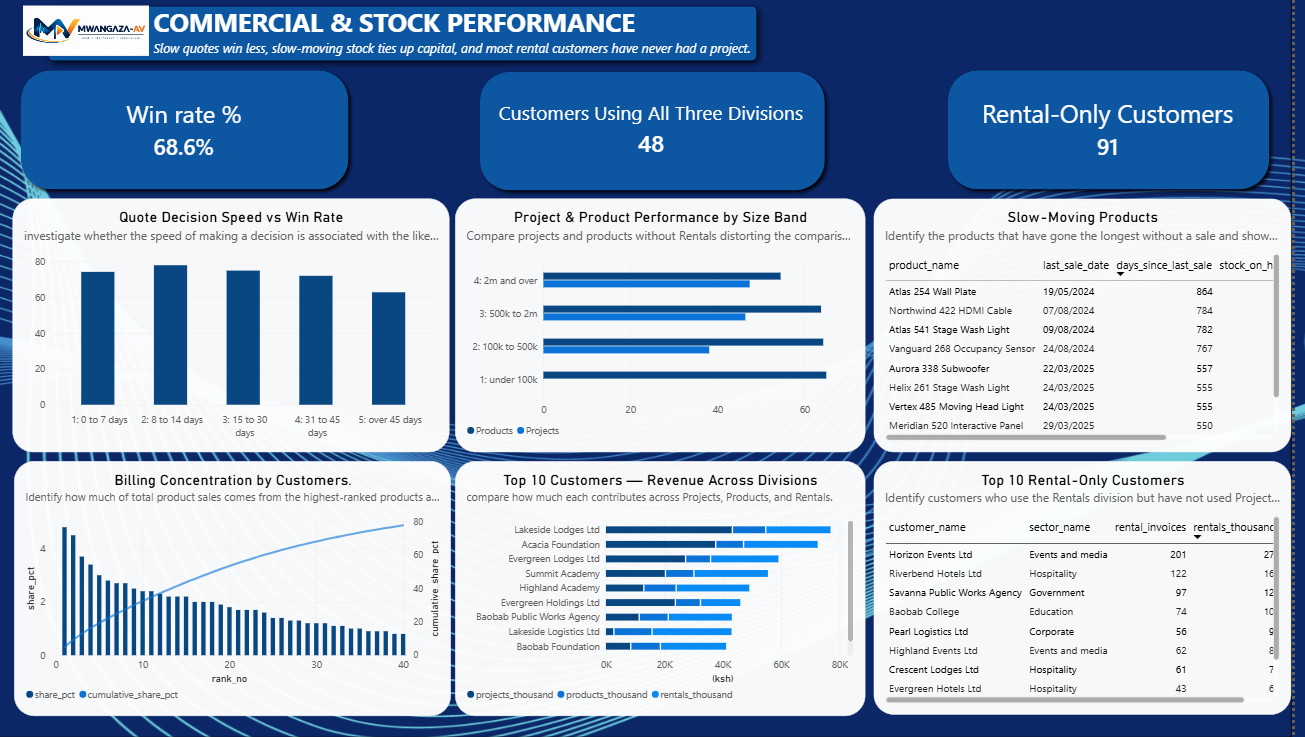

The dashboard page shown, as its layout file describes it:
{"tool":"powerbi","page":{"name":"commercial and stock","canvas":[1920,1080],"ordinal":2},"visuals":[{"type":"group","id":"g1","title":"Group 1","box":[60.4,0,1836,292.5],"z":0},{"type":"shape","box":[94.4,0,1061.1,109.2],"z":0,"group":"g1"},{"type":"shape","box":[1408.7,98.8,487.7,193],"z":1000,"group":"g1"},{"type":"cardVisual","fields":{"Data":["CountNonNull(analysis q17_customer_value_across_divisions.customer_code)"]},"box":[735.3,116.5,505.4,157.7],"z":1000},{"type":"cardVisual","fields":{"Data":["00_measures.Win rate %"]},"box":[85.5,98.8,446.9,192.9],"z":2000},{"type":"shape","box":[728,100.1,522,192.5],"z":2000,"group":"g1"},{"type":"shape","box":[60.4,98.8,496.6,193],"z":3000,"group":"g1"},{"type":"cardVisual","fields":{"Data":["CountNonNull(analysis q18_rent_only_customers.customer_code)"]},"box":[1427.8,98.8,450.9,190.2],"z":3000},{"type":"image","box":[75.1,7.4,183.6,88.4],"z":5000},{"type":"textbox","box":[264.2,13.1,877.7,83],"z":5500},{"type":"clusteredColumnChart","title":"Quote Decision Speed vs Win Rate","fields":{"Category":["analysis q13_win_rate_by_decision_speed.decision_speed"],"Y":["Sum(analysis q13_win_rate_by_decision_speed.win_rate_pct)"]},"box":[58.5,294.1,635.9,369.5],"z":7000},{"type":"clusteredBarChart","title":"Project & Product Performance by Size Band","fields":{"Category":["analysis q12_win_rate_by_division_and_size.price_band"],"Series":["analysis q12_win_rate_by_division_and_size.division_name"],"Y":["Sum(analysis q12_win_rate_by_division_and_size.win_rate_pct)"]},"box":[703.6,294.1,597.4,369.5],"z":8000},{"type":"tableEx","title":"Slow-Moving Products","fields":{"Values":["analysis q14_stock_without_recent_sales.product_name","analysis q14_stock_without_recent_sales.last_sale_date","analysis q14_stock_without_recent_sales.days_since_last_sale","analysis q14_stock_without_recent_sales.stock_on_hand","analysis q14_stock_without_recent_sales.stock_value_at_cost"]},"box":[1311.8,294.1,608.2,369.5],"z":9001},{"type":"lineClusteredColumnComboChart","title":"Billing Concentration by Customers.","fields":{"Category":["analysis q15_revenue_concentration.rank_no"],"Y":["Sum(analysis q15_revenue_concentration.share_pct)"],"Y2":["Sum(analysis q15_revenue_concentration.cumulative_share_pct)"]},"box":[60,675.9,635.9,371.1],"z":9002},{"type":"barChart","title":"Top 10 Customers — Revenue Across Divisions","fields":{"Category":["analysis q17_customer_value_across_divisions.customer_name"],"Y":["Sum(analysis q17_customer_value_across_divisions.projects_thousand)","Sum(analysis q17_customer_value_across_divisions.products_thousand)","Sum(analysis q17_customer_value_across_divisions.rentals_thousand)"]},"box":[704,676,597,371],"z":9003},{"type":"tableEx","title":"Top 10 Rental-Only Customers","fields":{"Values":["analysis q18_rent_only_customers.customer_name","analysis q18_rent_only_customers.sector_name","analysis q18_rent_only_customers.rental_invoices","analysis q18_rent_only_customers.rentals_thousand"]},"box":[1311.2,676,608.2,369.5],"z":9004}]}

Visuals, with their boxes in screenshot pixels (x1, y1, x2, y2), scaled from the page's 1920x1080 canvas onto the 1305x737 screenshot:
"Group 1" group: Rect(41, 0, 1289, 200)
shape: Rect(64, 0, 785, 75)
shape: Rect(957, 67, 1289, 199)
cardVisual - CountNonNull(analysis q17_customer_value_across_divisions.customer_code): Rect(500, 80, 843, 187)
cardVisual - 00_measures.Win rate %: Rect(58, 67, 362, 199)
shape: Rect(495, 68, 850, 200)
shape: Rect(41, 67, 379, 199)
cardVisual - CountNonNull(analysis q18_rent_only_customers.customer_code): Rect(970, 67, 1277, 197)
image: Rect(51, 5, 176, 65)
textbox: Rect(180, 9, 776, 66)
"Quote Decision Speed vs Win Rate" clusteredColumnChart: Rect(40, 201, 472, 453)
"Project & Product Performance by Size Band" clusteredBarChart: Rect(478, 201, 884, 453)
"Slow-Moving Products" tableEx: Rect(892, 201, 1304, 453)
"Billing Concentration by Customers." lineClusteredColumnComboChart: Rect(41, 461, 473, 714)
"Top 10 Customers — Revenue Across Divisions" barChart: Rect(478, 461, 884, 714)
"Top 10 Rental-Only Customers" tableEx: Rect(891, 461, 1304, 713)
